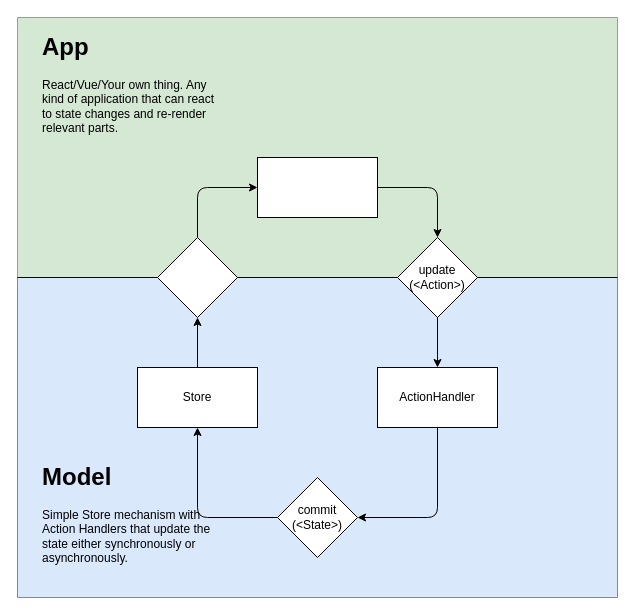
The diagram is 636 pixels wide and 615 high, and some of its shapes have lost their labels. The box of each missing label's shape, as (x1, y1, x2, y2) in pixels:
onState Changed: (156, 236, 238, 318)
View/Controller: (256, 156, 378, 218)
